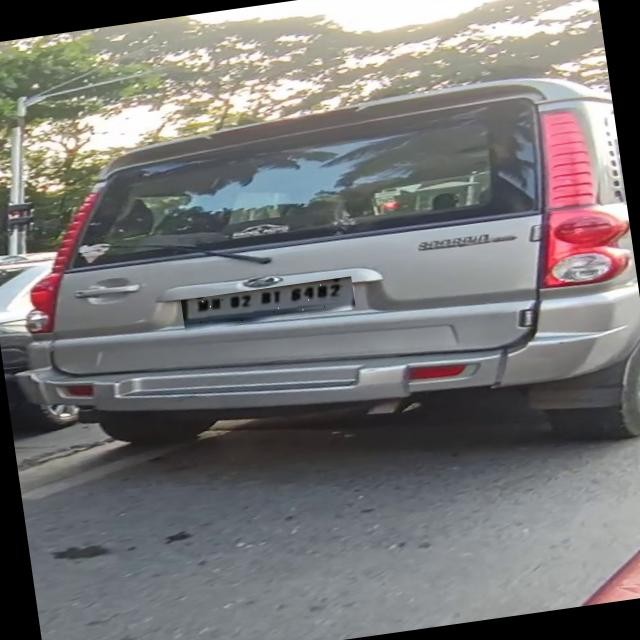Plate: (182, 278, 357, 334)
